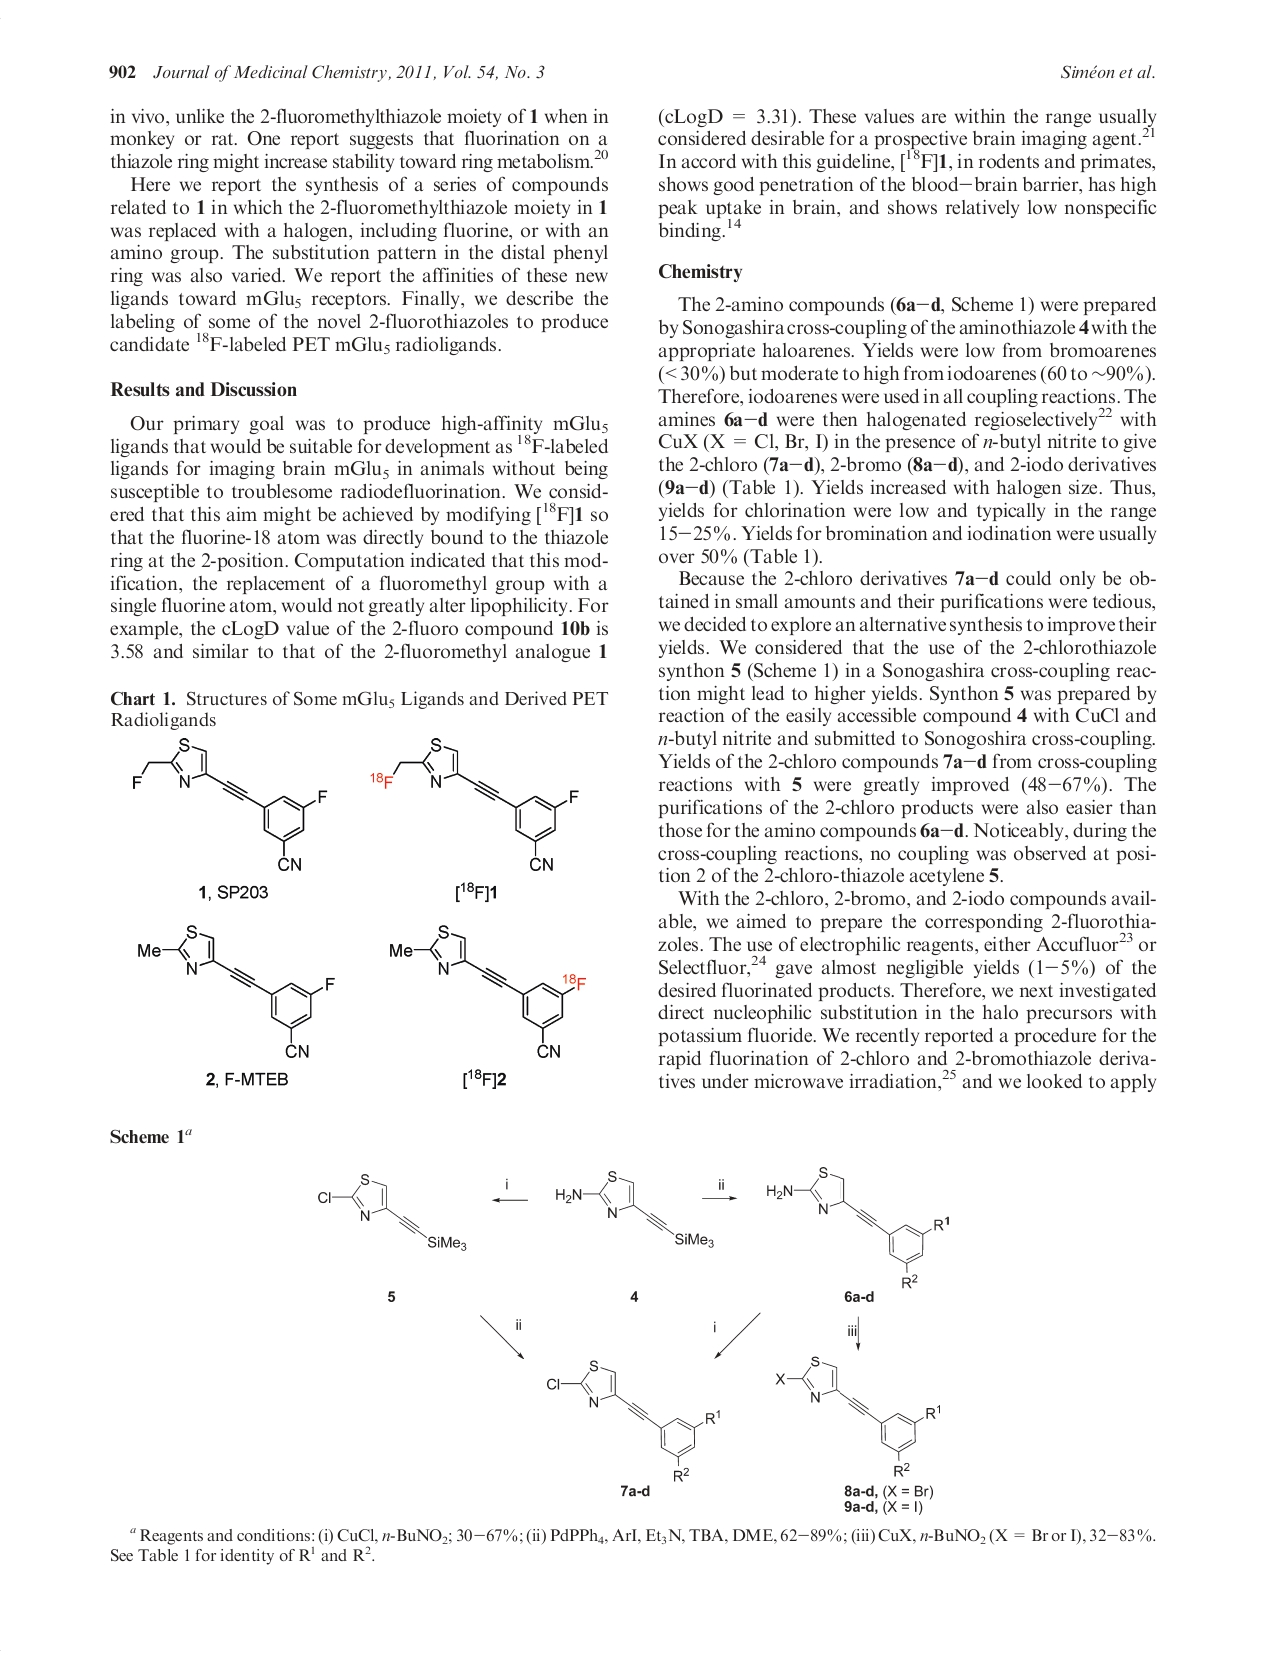exist_molecular: (368, 734, 585, 876), (383, 920, 593, 1067), (132, 914, 336, 1063), (129, 734, 328, 872), (761, 1158, 952, 1290), (543, 1355, 725, 1483), (773, 1355, 942, 1477), (551, 1166, 715, 1250), (314, 1170, 469, 1258)
